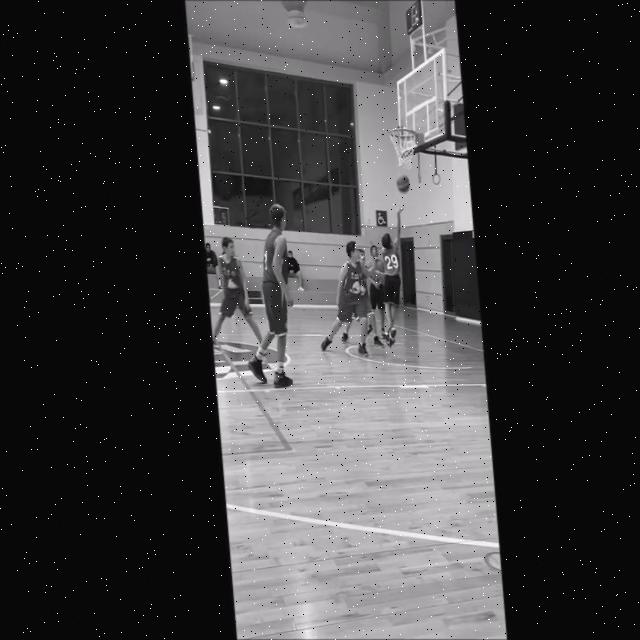basketball: (395, 172, 411, 193)
hoop: (388, 126, 419, 168)
